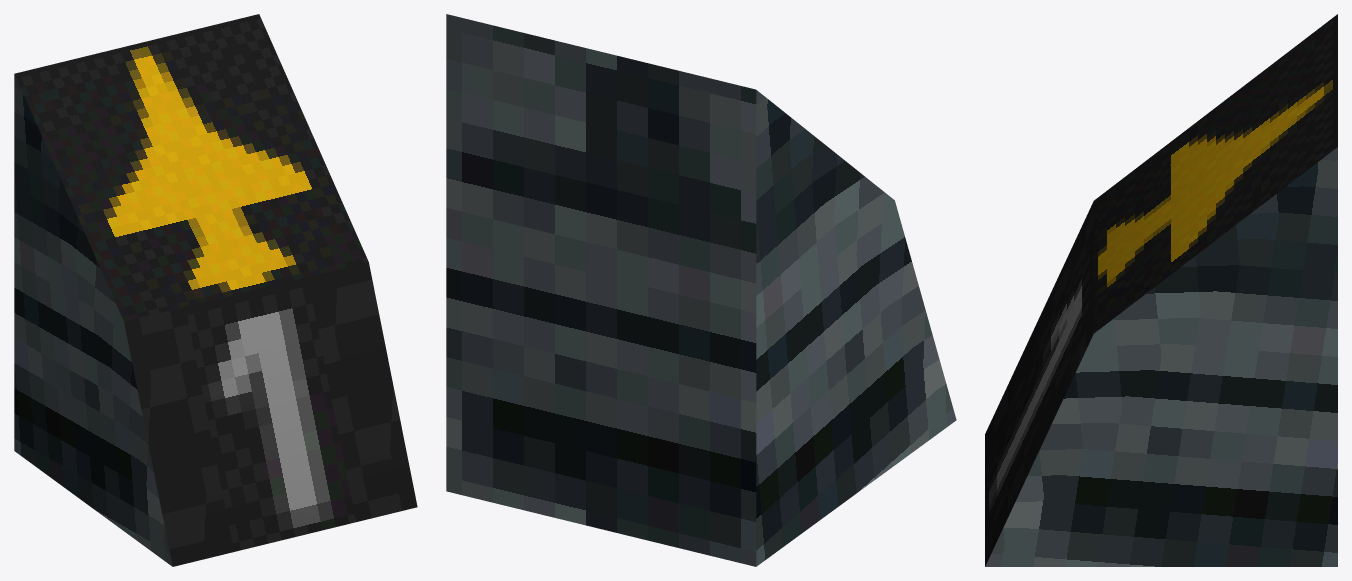
File: mp-obj039-icon-console.glb
The picture shows the model from 3 angles, left to right: view 1: azimuth 30°, elevation 25°; view 2: azimuth 150°, elevation 25°; view 3: azimuth 270°, elevation 25°; orthographic projection. The views are drawn at different scales.
Parts seen in each view (by area): view 1: Mp_obj_039; view 2: Mp_obj_039; view 3: Mp_obj_039.
Part boxes in pixels (box(x1,y1,x2,y2)): Mp_obj_039: box(14, 14, 417, 566); Mp_obj_039: box(446, 14, 956, 566); Mp_obj_039: box(985, 14, 1337, 566).
Bounding box in the file's own units: 0.5996 × 0.8828 × 0.6719.
Materials: 1 (1 with a texture image).
